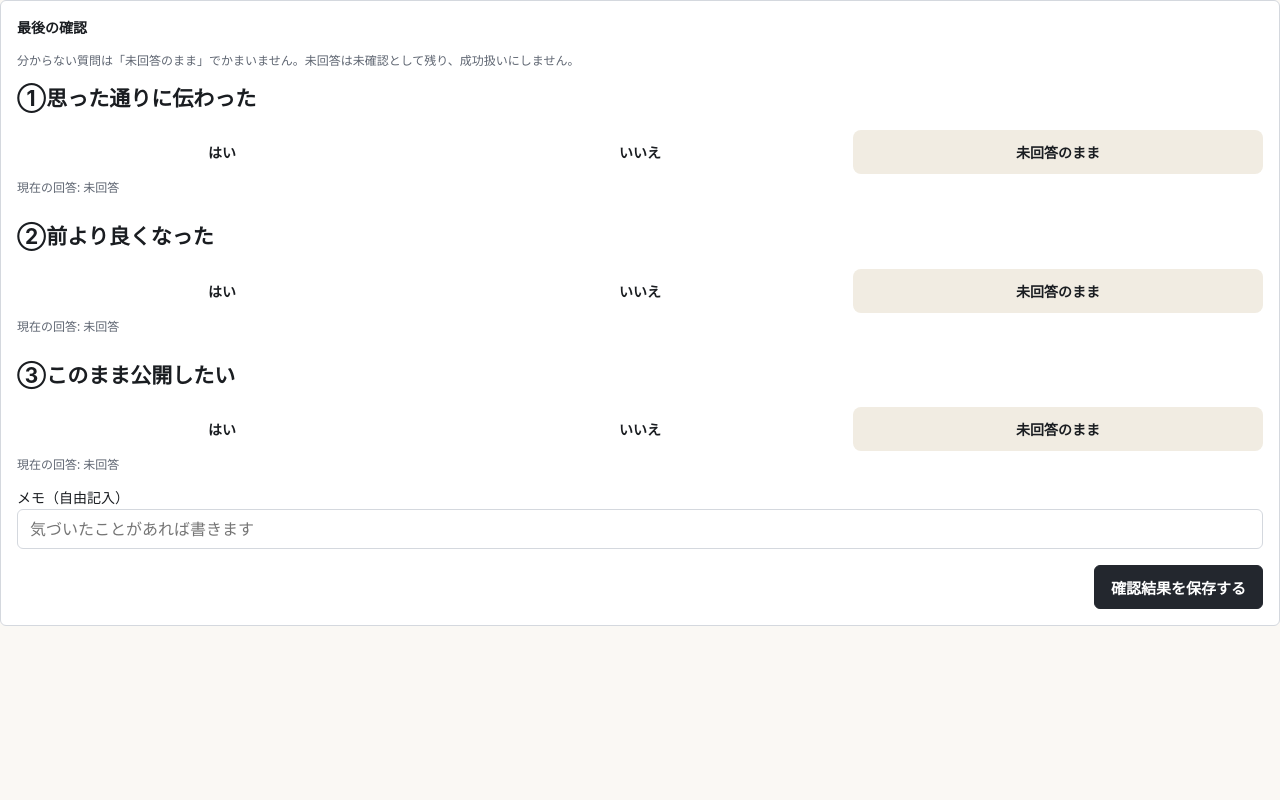
SelfCheckSection — 送信形状（未回答nullを含む） › 3問すべて未回答のまま＋メモなしでnull3つ・空メモを送る
Click the button with test id "self-check-submit": [1178, 587] box [1094,565,1263,609]
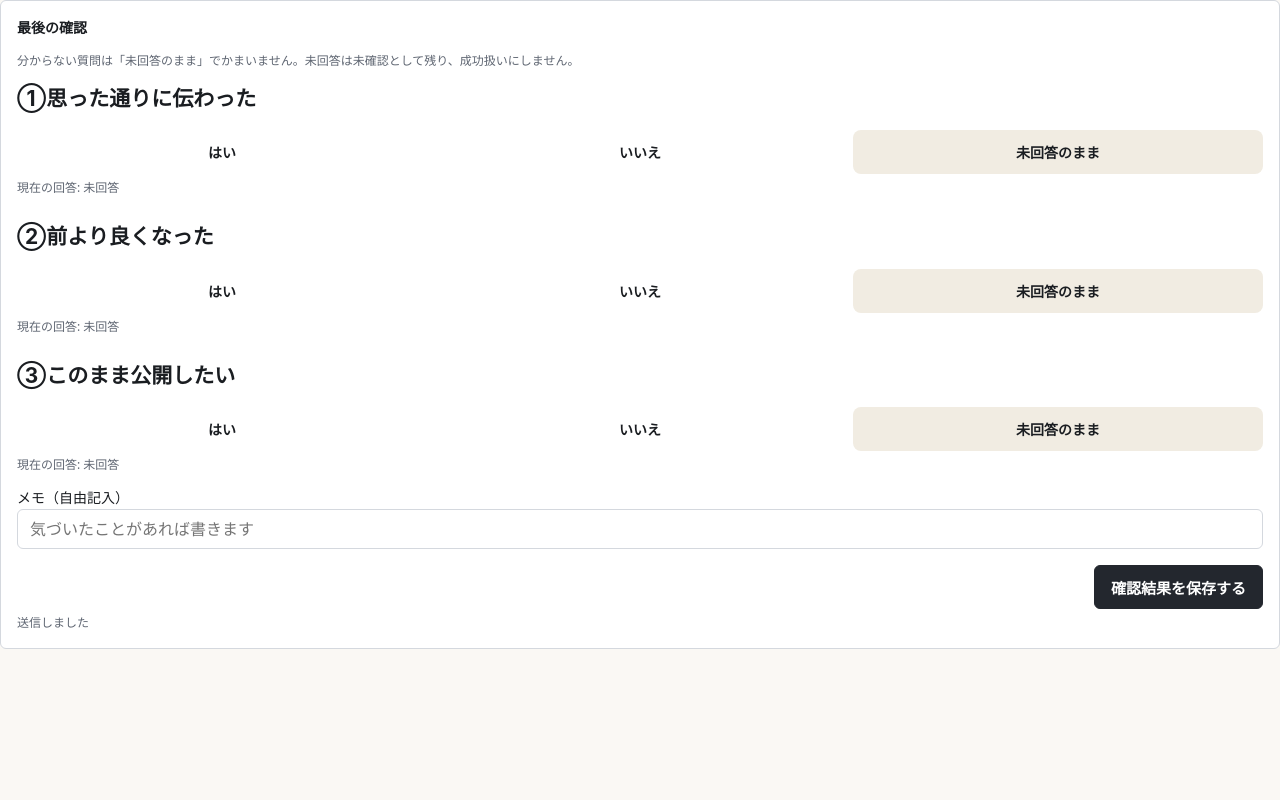
Expected: the text with test id "self-check-sent" reads "送信しました", [17,614,89,631]
